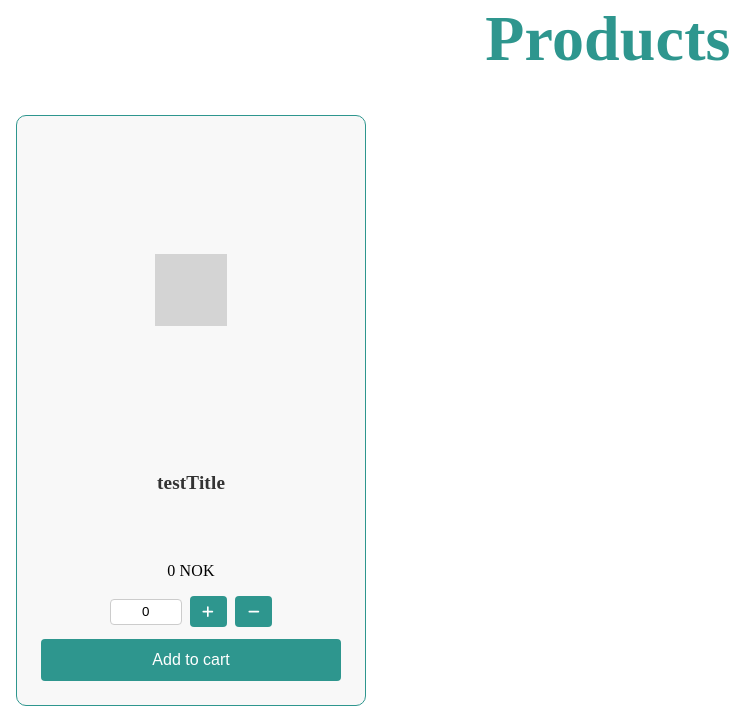
Scenario: ShopPage component › incrementing products quantity
expect the heading "testTitle" is shown: met, box [157,472,225,493]
expect the number field holds "0": met, box [110,599,182,625]
Click the button named "increment-product-counter" at [208, 612], box [190,596,227,627]
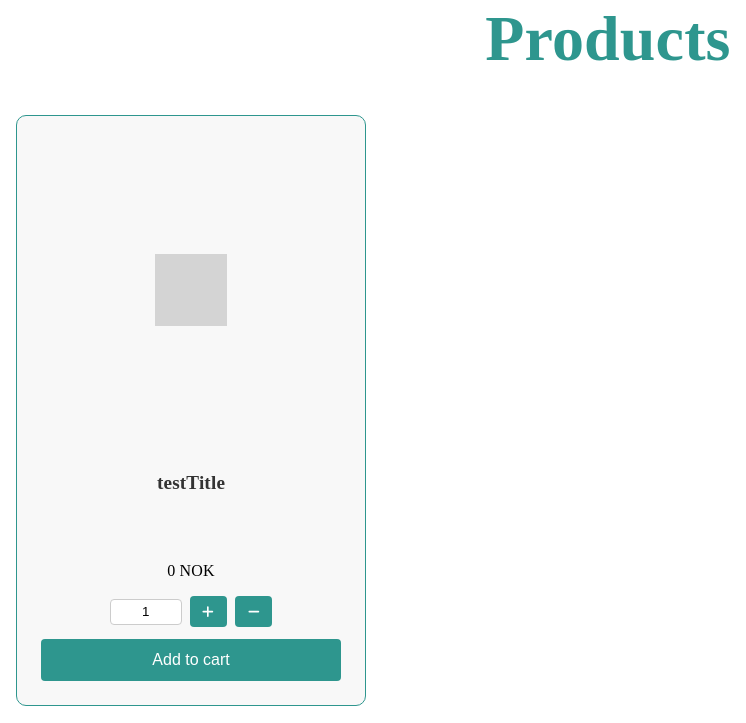
expect the number field holds "1": met, box [110,599,182,625]
